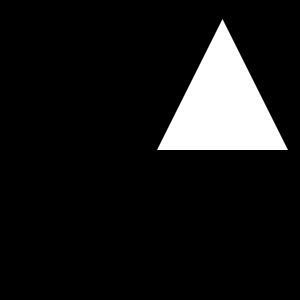triangle: (157, 19, 288, 150)
